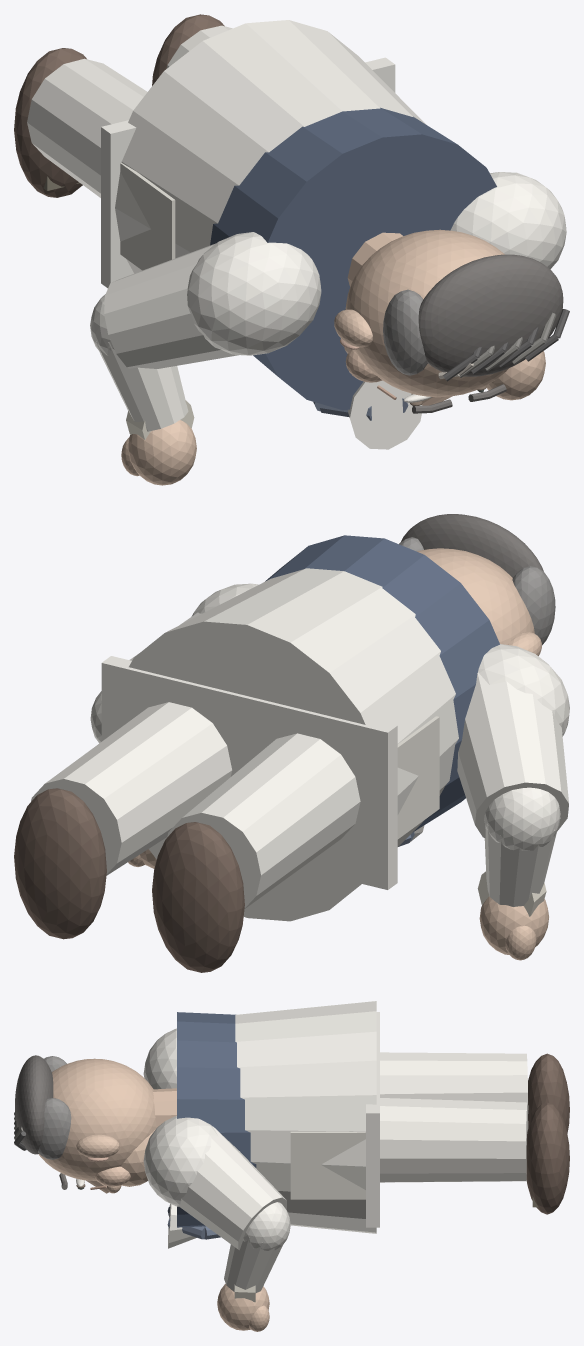
The model's file is nawaz_sharif_fighter_v2.glb.
The picture shows the model from 3 angles, top to bottom: view 1: azimuth 30°, elevation 25°; view 2: azimuth 150°, elevation 25°; view 3: azimuth 270°, elevation 25°; orthographic projection. The views are drawn at different scales.
Parts seen in each view (by area): view 1: signature_waistcoat_18, kurta_tunic_14, kurta_shoulder_31, side_combed_hair_72, recognizable_face_head_47, shalwar_leg_2, upper_arm_sleeve_32, kurta_shoulder_38, tunic_hem_15, lower_arm_sleeve_34, Peshawari_chappal_shoe_0, kurta_side_seam_16 (+10 smaller); view 2: kurta_tunic_14, tunic_hem_15, shalwar_leg_9, shalwar_leg_2, signature_waistcoat_18, upper_arm_sleeve_32, Peshawari_chappal_shoe_7, Peshawari_chappal_shoe_0, recognizable_face_head_47, side_combed_hair_72, elbow_fabric_33, kurta_shoulder_31 (+7 smaller); view 3: kurta_tunic_14, shalwar_leg_9, recognizable_face_head_47, signature_waistcoat_18, shalwar_leg_2, upper_arm_sleeve_39, kurta_shoulder_38, kurta_side_seam_17, Peshawari_chappal_shoe_7, side_combed_hair_72, tunic_hem_15, Peshawari_chappal_shoe_0 (+10 smaller).
Boxes of the visible parts, x1,y1,x2,y2 form: signature_waistcoat_18: (210, 107, 496, 410); kurta_tunic_14: (115, 20, 426, 273); kurta_shoulder_31: (187, 232, 321, 355); side_combed_hair_72: (418, 254, 563, 376); recognizable_face_head_47: (345, 229, 508, 397); shalwar_leg_2: (27, 58, 147, 197); upper_arm_sleeve_32: (104, 243, 238, 368); kurta_shoulder_38: (450, 172, 566, 269); tunic_hem_15: (101, 57, 395, 288); lower_arm_sleeve_34: (96, 341, 188, 431); Peshawari_chappal_shoe_0: (14, 48, 86, 197); kurta_side_seam_16: (120, 163, 175, 270); kurta_tunic_14: (129, 568, 458, 921); tunic_hem_15: (101, 656, 397, 889); shalwar_leg_9: (31, 702, 232, 875); shalwar_leg_2: (167, 733, 360, 908); signature_waistcoat_18: (265, 535, 499, 831); upper_arm_sleeve_32: (457, 672, 568, 838); Peshawari_chappal_shoe_7: (14, 788, 106, 939); Peshawari_chappal_shoe_0: (152, 822, 244, 972); recognizable_face_head_47: (417, 548, 534, 644); side_combed_hair_72: (401, 514, 543, 577); elbow_fabric_33: (484, 787, 560, 850); kurta_shoulder_31: (478, 644, 569, 736); kurta_tunic_14: (235, 1001, 376, 1233); shalwar_leg_9: (380, 1098, 528, 1182); recognizable_face_head_47: (38, 1058, 156, 1180); signature_waistcoat_18: (177, 1012, 256, 1227); shalwar_leg_2: (380, 1052, 528, 1113); upper_arm_sleeve_39: (177, 1126, 286, 1250); kurta_shoulder_38: (143, 1116, 217, 1206); kurta_side_seam_17: (290, 1131, 365, 1199); Peshawari_chappal_shoe_7: (526, 1102, 569, 1214); side_combed_hair_72: (15, 1055, 53, 1154); tunic_hem_15: (366, 1012, 379, 1227); Peshawari_chappal_shoe_0: (528, 1053, 569, 1133).
Bounding box in the file's own units: 2.2 × 1.61 × 3.18.
